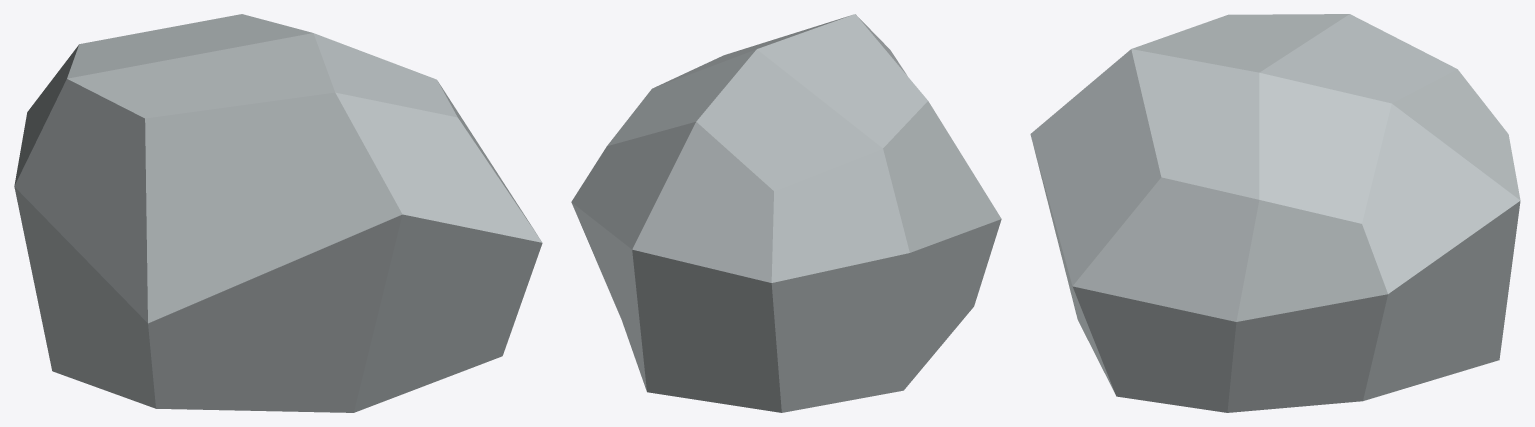
The model's file is maya_export_Boulder2_v1.fbx.
3 views of the same model, side by side, from view 1: azimuth 30°, elevation 25°; view 2: azimuth 150°, elevation 25°; view 3: azimuth 270°, elevation 25° (orthographic). The views are drawn at different scales.
Visible parts, largest first — view 1: Boulder2_v1; view 2: Boulder2_v1; view 3: Boulder2_v1.
Boxes of the visible parts, x1,y1,x2,y2 form: Boulder2_v1: (14, 14, 542, 412); Boulder2_v1: (571, 14, 1001, 412); Boulder2_v1: (1030, 14, 1520, 412).
Bounding box in the file's own units: 13.56 × 10.76 × 15.46.
Materials: 1 (1 with a texture image).
